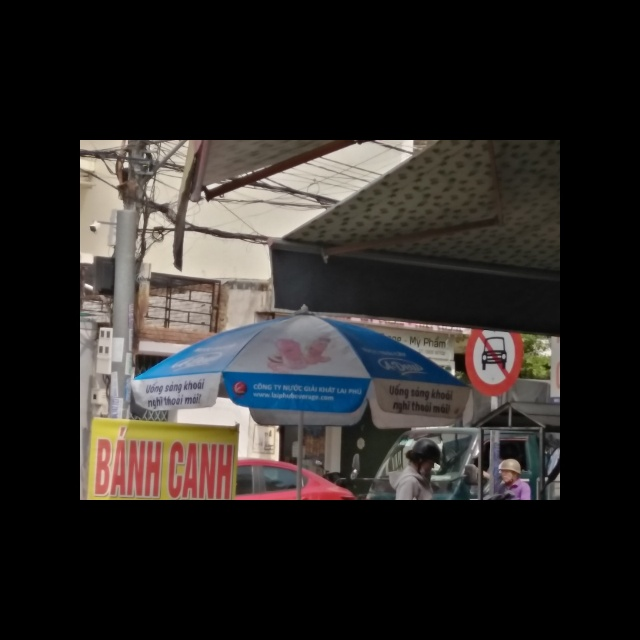Cấm xe ô tô: (462, 328, 525, 397)
